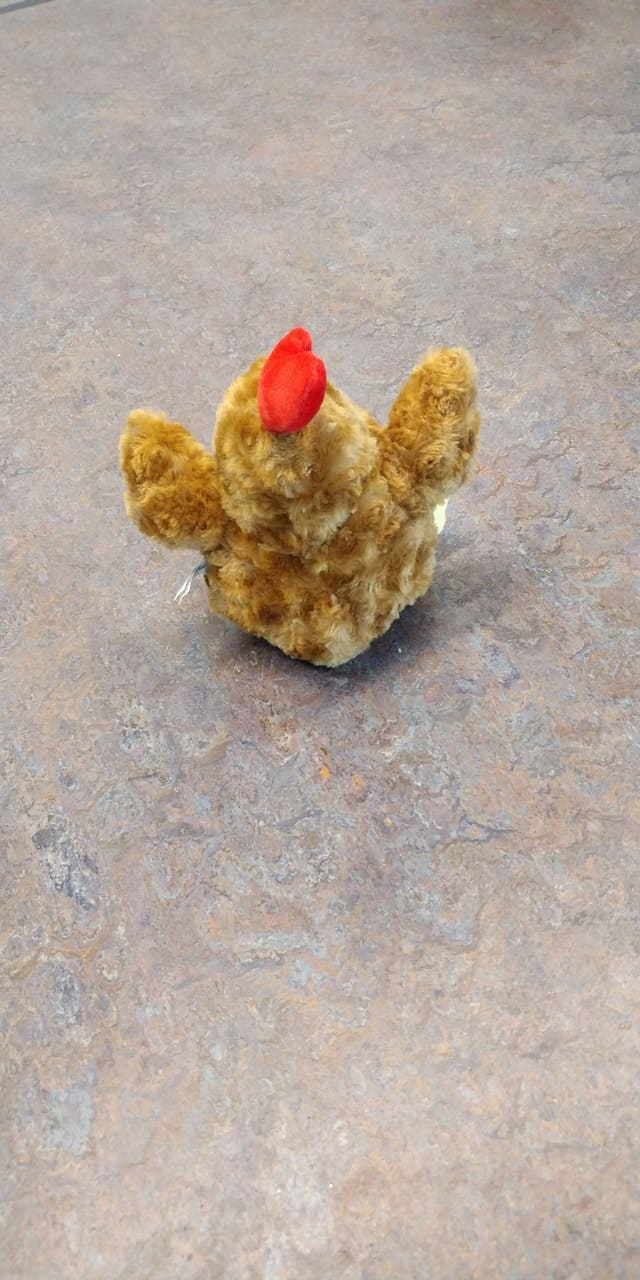fakeChicken: (118, 322, 482, 674)
